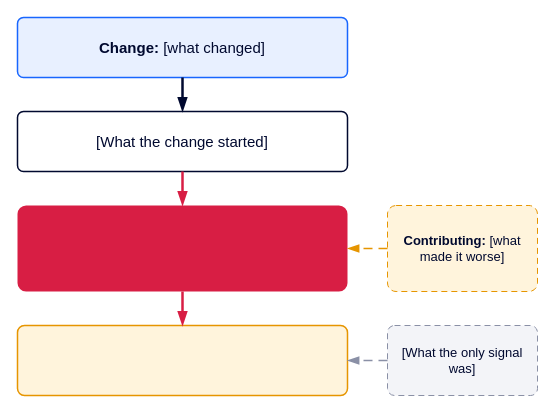
Image size: 556x414. Some labels were removed from this diagram. Here are the shapes that lost their labels. From the top down, the box of each, then its label:
(17, 205, 347, 291): [CAUSE LABEL] [The underlying cause]
(16, 324, 348, 396): [Visible effect] ; [why it kept happening]
